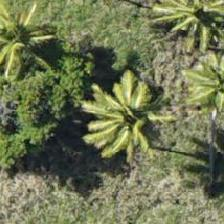coconut_tree: (81, 72, 171, 162), (166, 39, 223, 129), (0, 0, 58, 85), (162, 0, 223, 62)
